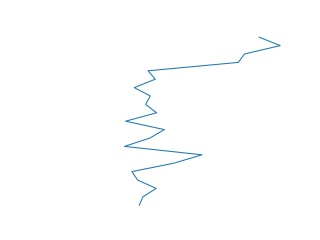crevasseRiverChannelBar: (122, 34, 286, 209)
